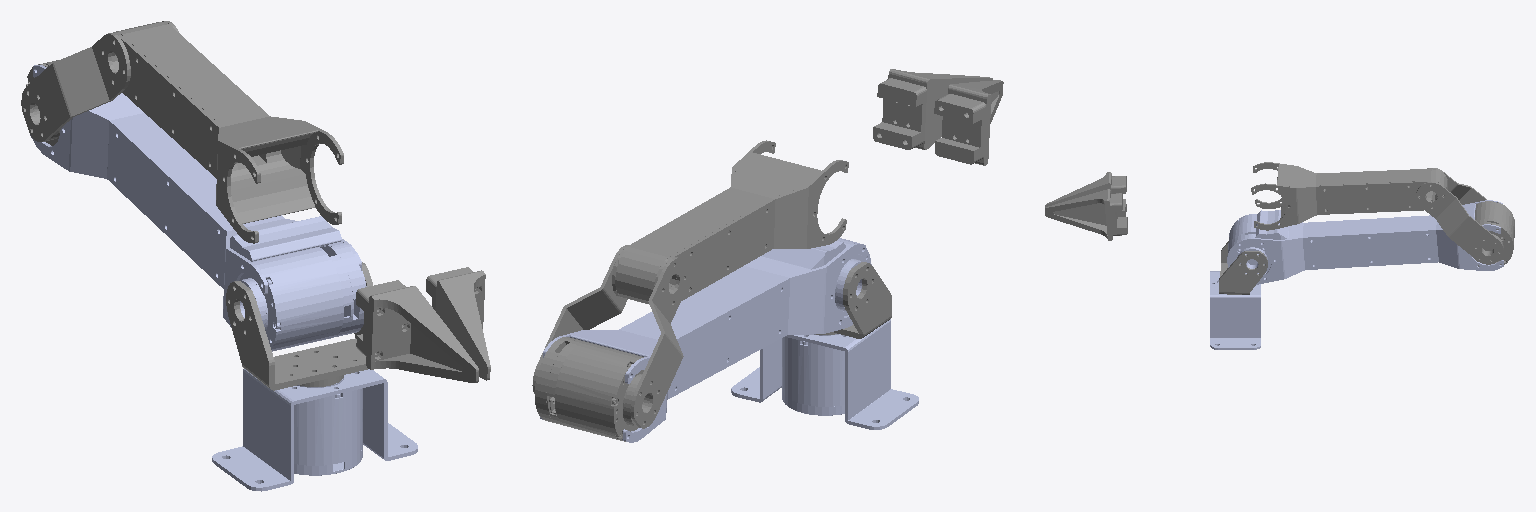
URDF robot description (dk2.SLDASM):
<?xml version="1.0" encoding="utf-8"?>
<!-- This URDF was automatically created by SolidWorks to URDF Exporter! Originally created by [author] ([email redacted]) 
     Commit Version: 1.6.0-4-g7f85cfe  Build Version: 1.6.7995.38578
     For more information, please see http://wiki.ros.org/sw_urdf_exporter -->
<robot
  name="dk2.SLDASM">
  <link
    name="base_link">
    <inertial>
      <origin
        xyz="1.4201527454692E-08 8.13980510222976E-05 0.00232072233173067"
        rpy="0 0 0" />
      <mass
        value="0.141668146577088" />
      <inertia
        ixx="6.01865771577034E-05"
        ixy="-1.85787589074741E-08"
        ixz="-2.39865511407209E-12"
        iyy="8.48421067900591E-05"
        iyz="1.69308530934201E-08"
        izz="8.77373870509691E-05" />
    </inertial>
    <visual>
      <origin
        xyz="0 0 0"
        rpy="0 0 0" />
      <geometry>
        <mesh
          filename="../meshes/base_link.STL" />
      </geometry>
      <material
        name="">
        <color
          rgba="0.792156862745098 0.819607843137255 0.933333333333333 1" />
      </material>
    </visual>
    <collision>
      <origin
        xyz="0 0 0"
        rpy="0 0 0" />
      <geometry>
        <mesh
          filename="../meshes/base_link.STL" />
      </geometry>
    </collision>
  </link>
  <link
    name="link1">
    <inertial>
      <origin
        xyz="-0.00465660414352077 0.0181967805176876 0.00106205093012862"
        rpy="0 0 0" />
      <mass
        value="0.0285129056334858" />
      <inertia
        ixx="3.19051512949826E-05"
        ixy="2.5850275700468E-06"
        ixz="-4.82440392516954E-06"
        iyy="3.14929461513429E-05"
        iyz="-5.89577909257387E-07"
        izz="1.18526839427376E-05" />
    </inertial>
    <visual>
      <origin
        xyz="0 0 0"
        rpy="0 0 0" />
      <geometry>
        <mesh
          filename="../meshes/link1.STL" />
      </geometry>
      <material
        name="">
        <color
          rgba="0.627450980392157 0.627450980392157 0.627450980392157 1" />
      </material>
    </visual>
    <collision>
      <origin
        xyz="0 0 0"
        rpy="0 0 0" />
      <geometry>
        <mesh
          filename="../meshes/link1.STL" />
      </geometry>
    </collision>
  </link>
  <joint
    name="joint1"
    type="revolute">
    <origin
      xyz="0 0 0.027175"
      rpy="1.5707963267949 0 -1.82869775211856" />
    <parent
      link="base_link" />
    <child
      link="link1" />
    <axis
      xyz="0 -1 0" />
    <limit
      lower="-3"
      upper="3"
      effort="2"
      velocity="3" />
  </joint>
  <link
    name="link2">
    <inertial>
      <origin
        xyz="-0.0289764514071911 0.00740232533936476 -0.0822056226155145"
        rpy="0 0 0" />
      <mass
        value="0.388235136828648" />
      <inertia
        ixx="0.00170831851808588"
        ixy="-2.84576369335424E-06"
        ixz="5.21053832137668E-05"
        iyy="0.00166551748326942"
        iyz="8.44709775535646E-05"
        izz="0.000163222874065412" />
    </inertial>
    <visual>
      <origin
        xyz="0 0 0"
        rpy="0 0 0" />
      <geometry>
        <mesh
          filename="../meshes/link2.STL" />
      </geometry>
      <material
        name="">
        <color
          rgba="0.792156862745098 0.819607843137255 0.933333333333333 1" />
      </material>
    </visual>
    <collision>
      <origin
        xyz="0 0 0"
        rpy="0 0 0" />
      <geometry>
        <mesh
          filename="../meshes/link2.STL" />
      </geometry>
    </collision>
  </link>
  <joint
    name="joint2"
    type="revolute">
    <origin
      xyz="-0.026315 0.0435 -0.025435"
      rpy="3.1416 1.3129 3.1416" />
    <parent
      link="link1" />
    <child
      link="link2" />
    <axis
      xyz="1 0 0" />
    <limit
      lower="-0.3"
      upper="3"
      effort="3"
      velocity="3" />
  </joint>
  <link
    name="link3">
    <inertial>
      <origin
        xyz="0.00117448104034228 0.0112814759819108 -0.0781248534672838"
        rpy="0 0 0" />
      <mass
        value="0.313559637709797" />
      <inertia
        ixx="0.000625725129934808"
        ixy="1.16696300618421E-08"
        ixz="8.47055402578423E-11"
        iyy="0.000563956200389484"
        iyz="-0.000116973550675003"
        izz="0.000128691567896901" />
    </inertial>
    <visual>
      <origin
        xyz="0 0 0"
        rpy="0 0 0" />
      <geometry>
        <mesh
          filename="../meshes/link3.STL" />
      </geometry>
      <material
        name="">
        <color
          rgba="0.627450980392157 0.627450980392157 0.627450980392157 1" />
      </material>
    </visual>
    <collision>
      <origin
        xyz="0 0 0"
        rpy="0 0 0" />
      <geometry>
        <mesh
          filename="../meshes/link3.STL" />
      </geometry>
    </collision>
  </link>
  <joint
    name="joint3"
    type="revolute">
    <origin
      xyz="-0.0217755853007845 0.0210468861591903 -0.264042184068792"
      rpy="-2.94236409100164 0.0336629169538147 -3.14159265358979" />
    <parent
      link="link2" />
    <child
      link="link3" />
    <axis
      xyz="-1 0 0" />
    <limit
      lower="-3"
      upper="0"
      effort="3"
      velocity="3" />
  </joint>
  <link
    name="link4">
    <inertial>
      <origin
        xyz="-0.00193819206428262 -0.00222719876457325 -0.00242291226998932"
        rpy="0 0 0" />
      <mass
        value="0.140403110673593" />
      <inertia
        ixx="6.10869438219043E-05"
        ixy="-1.72988131562216E-07"
        ixz="-2.77253413842875E-07"
        iyy="5.34584423484548E-05"
        iyz="-3.90826027510622E-06"
        izz="5.27203234682394E-05" />
    </inertial>
    <visual>
      <origin
        xyz="0 0 0"
        rpy="0 0 0" />
      <geometry>
        <mesh
          filename="../meshes/link4.STL" />
      </geometry>
      <material
        name="">
        <color
          rgba="0.450980392156863 0.450980392156863 0.450980392156863 1" />
      </material>
    </visual>
    <collision>
      <origin
        xyz="0 0 0"
        rpy="0 0 0" />
      <geometry>
        <mesh
          filename="../meshes/link4.STL" />
      </geometry>
    </collision>
  </link>
  <joint
    name="joint4"
    type="revolute">
    <origin
      xyz="0 -0.0051962 -0.25122"
      rpy="0.28508 -0.032187 3.1322" />
    <parent
      link="link3" />
    <child
      link="link4" />
    <axis
      xyz="1 0 0" />
    <limit
      lower="-1.7"
      upper="1.2"
      effort="3"
      velocity="3" />
  </joint>
  <link
    name="link5">
    <inertial>
      <origin
        xyz="-0.000222629539317291 0.00251977021995765 -0.0140312597975337"
        rpy="0 0 0" />
      <mass
        value="0.126310311601116" />
      <inertia
        ixx="3.53317488726104E-05"
        ixy="-1.86899580182592E-07"
        ixz="-1.05400610695646E-07"
        iyy="3.6690763273948E-05"
        iyz="5.57185072016224E-07"
        izz="4.59650327562335E-05" />
    </inertial>
    <visual>
      <origin
        xyz="0 0 0"
        rpy="0 0 0" />
      <geometry>
        <mesh
          filename="../meshes/link5.STL" />
      </geometry>
      <material
        name="">
        <color
          rgba="0.627450980392157 0.627450980392157 0.627450980392157 1" />
      </material>
    </visual>
    <collision>
      <origin
        xyz="0 0 0"
        rpy="0 0 0" />
      <geometry>
        <mesh
          filename="../meshes/link5.STL" />
      </geometry>
    </collision>
  </link>
  <joint
    name="joint5"
    type="revolute">
    <origin
      xyz="-0.0020791 -0.0645 -0.061965"
      rpy="1.5708 0.14561 0" />
    <parent
      link="link4" />
    <child
      link="link5" />
    <axis
      xyz="0 0 1" />
    <limit
      lower="-0.7"
      upper="0.7"
      effort="3"
      velocity="3" />
  </joint>
  <link
    name="link6">
    <inertial>
      <origin
        xyz="1.26084541834872E-06 0.00709055799916366 0.000117259299013933"
        rpy="0 0 0" />
      <mass
        value="0.128405900569685" />
      <inertia
        ixx="3.60658504797631E-05"
        ixy="-5.34405243977157E-10"
        ixz="2.71992271898125E-08"
        iyy="5.3287632122327E-05"
        iyz="-1.12175979668212E-07"
        izz="3.59484990063997E-05" />
    </inertial>
    <visual>
      <origin
        xyz="0 0 0"
        rpy="0 0 0" />
      <geometry>
        <mesh
          filename="../meshes/link6.STL" />
      </geometry>
      <material
        name="">
        <color
          rgba="0.450980392156863 0.450980392156863 0.450980392156863 1" />
      </material>
    </visual>
    <collision>
      <origin
        xyz="0 0 0"
        rpy="0 0 0" />
      <geometry>
        <mesh
          filename="../meshes/link6.STL" />
      </geometry>
    </collision>
  </link>
  <joint
    name="joint6"
    type="revolute">
    <origin
      xyz="0.00073747 -0.006458 -0.0645"
      rpy="0 0 -3.0279" />
    <parent
      link="link5" />
    <child
      link="link6" />
    <axis
      xyz="0 -1 0" />
    <limit
      lower="-2"
      upper="2"
      effort="3"
      velocity="3" />
  </joint>
  <link
    name="gripper">
    <inertial>
      <origin
        xyz="4.57922545641682E-05 0.0109875709840463 -0.0172432148087504"
        rpy="0 0 0" />
      <mass
        value="0.178826568864767" />
      <inertia
        ixx="5.02709625680338E-05"
        ixy="2.71431800222985E-08"
        ixz="4.2011935223565E-08"
        iyy="0.000132753700798434"
        iyz="-1.12667846713826E-06"
        izz="0.00015486227552687" />
    </inertial>
    <visual>
      <origin
        xyz="0 0 0"
        rpy="0 0 0" />
      <geometry>
        <mesh
          filename="../meshes/gripper.STL" />
      </geometry>
      <material
        name="">
        <color
          rgba="0.627450980392157 0.627450980392157 0.627450980392157 1" />
      </material>
    </visual>
    <collision>
      <origin
        xyz="0 0 0"
        rpy="0 0 0" />
      <geometry>
        <mesh
          filename="../meshes/gripper.STL" />
      </geometry>
    </collision>
  </link>
  <joint
    name="gripper_joint"
    type="fixed">
    <origin
      xyz="0 0.0795 0"
      rpy="1.5708 0 3.1416" />
    <parent
      link="link6" />
    <child
      link="gripper" />
    <axis
      xyz="0 0 0" />
  </joint>
  <link
    name="finger_l">
    <inertial>
      <origin
        xyz="-0.0404427556165687 -0.000349370263877435 0.0165725673862358"
        rpy="0 0 0" />
      <mass
        value="0.0338749597881643" />
      <inertia
        ixx="1.47424857623359E-05"
        ixy="7.10765382327682E-10"
        ixz="2.35325424219166E-06"
        iyy="1.10809229510692E-05"
        iyz="-9.87570698056843E-08"
        izz="8.84164714537918E-06" />
    </inertial>
    <visual>
      <origin
        xyz="0 0 0"
        rpy="0 0 0" />
      <geometry>
        <mesh
          filename="../meshes/finger_l.STL" />
      </geometry>
      <material
        name="">
        <color
          rgba="0.627450980392157 0.627450980392157 0.627450980392157 1" />
      </material>
    </visual>
    <collision>
      <origin
        xyz="0 0 0"
        rpy="0 0 0" />
      <geometry>
        <mesh
          filename="../meshes/finger_l.STL" />
      </geometry>
    </collision>
  </link>
  <joint
    name="finger_joint_l"
    type="prismatic">
    <origin
      xyz="0.058266 0 0.021"
      rpy="0 0 0" />
    <parent
      link="gripper" />
    <child
      link="finger_l" />
    <axis
      xyz="1 0 0" />
    <limit
      lower="0"
      upper="0.04"
      effort="1"
      velocity="1" />
  </joint>
  <link
    name="finger_r">
    <inertial>
      <origin
        xyz="-0.0423388609776856 -0.000349362077044446 0.0165725767240663"
        rpy="0 0 0" />
      <mass
        value="0.033874980250858" />
      <inertia
        ixx="1.47424895712606E-05"
        ixy="7.05235865158504E-10"
        ixz="2.35325432195153E-06"
        iyy="1.10809301447223E-05"
        iyz="-9.87570324370626E-08"
        izz="8.84165155702512E-06" />
    </inertial>
    <visual>
      <origin
        xyz="0 0 0"
        rpy="0 0 0" />
      <geometry>
        <mesh
          filename="../meshes/finger_r.STL" />
      </geometry>
      <material
        name="">
        <color
          rgba="0.627450980392157 0.627450980392157 0.627450980392157 1" />
      </material>
    </visual>
    <collision>
      <origin
        xyz="0 0 0"
        rpy="0 0 0" />
      <geometry>
        <mesh
          filename="../meshes/finger_r.STL" />
      </geometry>
    </collision>
  </link>
  <joint
    name="finger_joint_r"
    type="prismatic">
    <origin
      xyz="-0.060306 0 0.021"
      rpy="0 0 3.1416" />
    <parent
      link="gripper" />
    <child
      link="finger_r" />
    <axis
      xyz="-1 0 0" />
    <limit
      lower="-0.04"
      upper="0"
      effort="1"
      velocity="1" />
  </joint>
</robot>

--- Render facts (derived) ---
The picture shows the robot from 3 angles, left to right: view 1: azimuth 30°, elevation 25°; view 2: azimuth 150°, elevation 25°; view 3: azimuth 270°, elevation 25°; orthographic projection.
Model dk2.SLDASM with 10 links and 9 joints (6 revolute, 2 prismatic, 1 fixed), rooted at base_link, posed all joints at 0.
Visible links, largest first — view 1: link2, link3, base_link, finger_r, link1, finger_l; view 2: link3, link2, base_link, finger_l, finger_r, link1; view 3: link3, link2, base_link, finger_l, link1, finger_r.
Link boxes in pixels (bbox=[...]): link2: bbox=[30, 65, 366, 351]; link3: bbox=[21, 21, 343, 243]; base_link: bbox=[212, 369, 417, 491]; finger_r: bbox=[356, 280, 478, 382]; link1: bbox=[226, 262, 372, 390]; finger_l: bbox=[426, 267, 490, 380]; link3: bbox=[532, 140, 848, 441]; link2: bbox=[540, 238, 871, 442]; base_link: bbox=[731, 319, 918, 429]; finger_l: bbox=[873, 69, 992, 149]; finger_r: bbox=[934, 80, 1003, 165]; link1: bbox=[816, 262, 891, 338]; link3: bbox=[1251, 162, 1514, 266]; link2: bbox=[1227, 200, 1503, 284]; base_link: bbox=[1210, 271, 1260, 349]; finger_l: bbox=[1045, 189, 1127, 240]; link1: bbox=[1219, 241, 1267, 294]; finger_r: bbox=[1045, 172, 1126, 216].
Bounding box of the posed robot: 0.117 × 0.526 × 0.1916 m (x, y, z).
6 mesh visuals loaded from 10 distinct referenced files (6 binary STL); not drawn: 4 (reference not matched to a file when rendering).